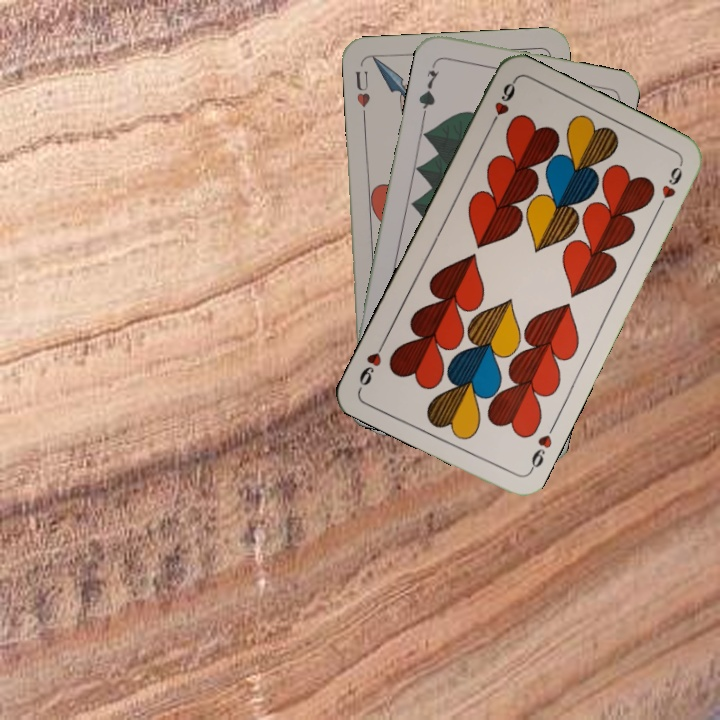G7: (414, 58, 441, 117)
H9: (485, 77, 518, 132), (525, 421, 558, 476)
HU: (351, 66, 373, 121)
